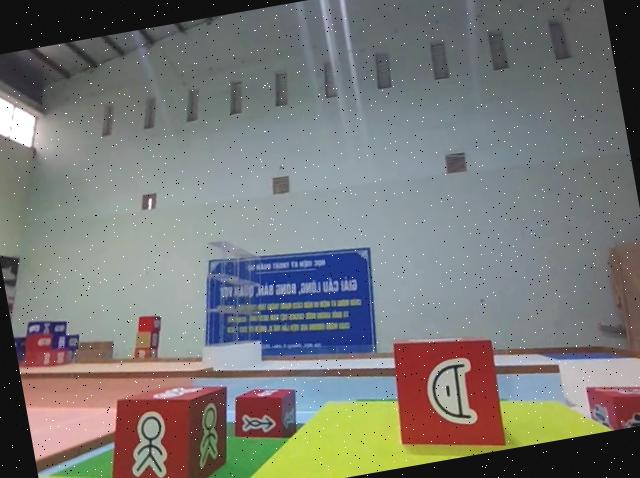R1: (584, 370, 640, 433)
R2 Real: (381, 328, 511, 465), (96, 374, 241, 478), (228, 383, 305, 451)
